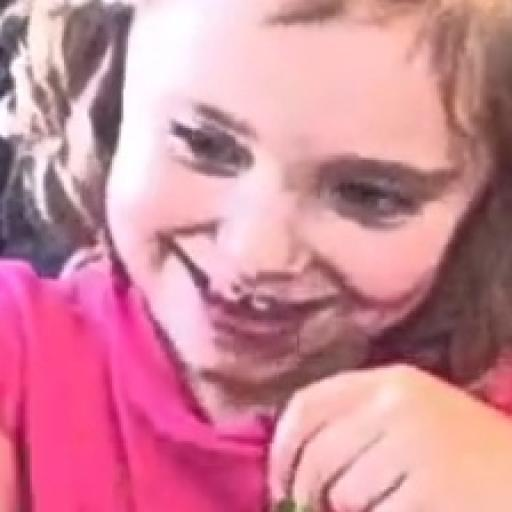Autism: (61, 0, 512, 466)
